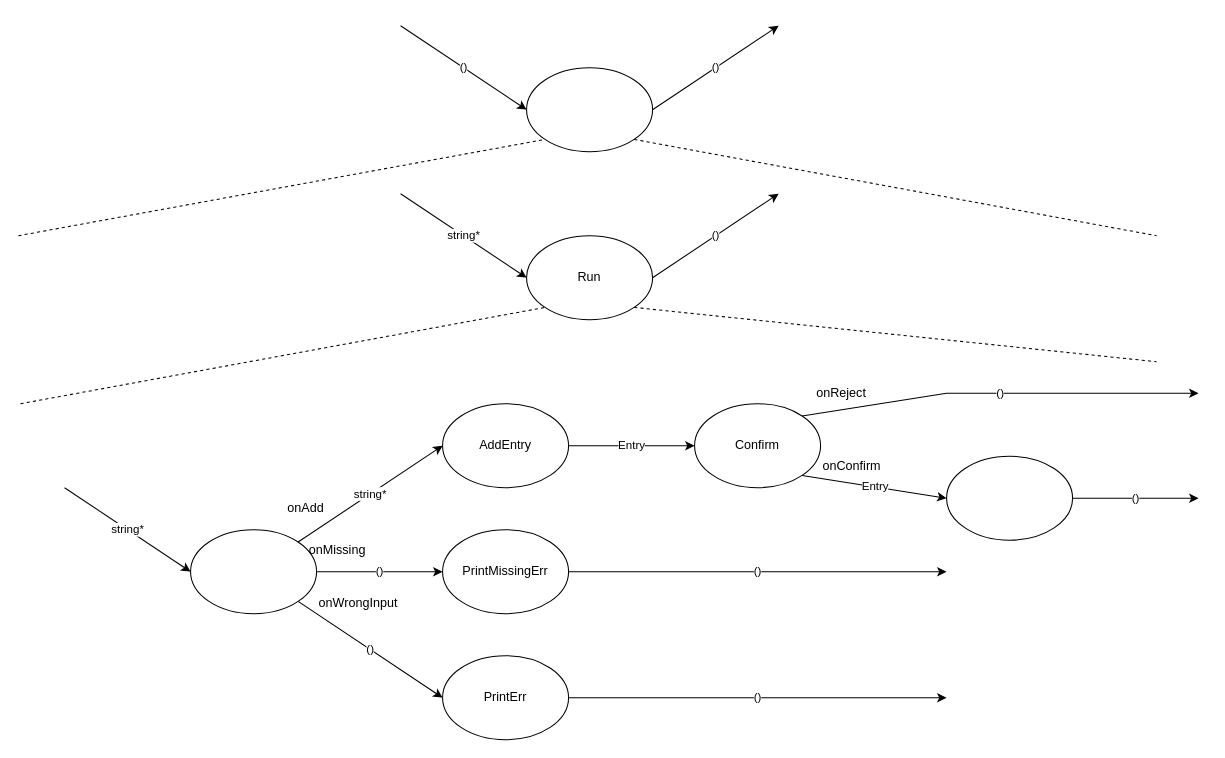
Some shapes in this 1225 by 758 pixel diagram are drawn without their labels. Each missing label, with the box of its shape:
AddBooking: (946, 455, 1073, 540)
CheckEntry: (190, 529, 317, 614)
Main: (526, 67, 653, 152)
